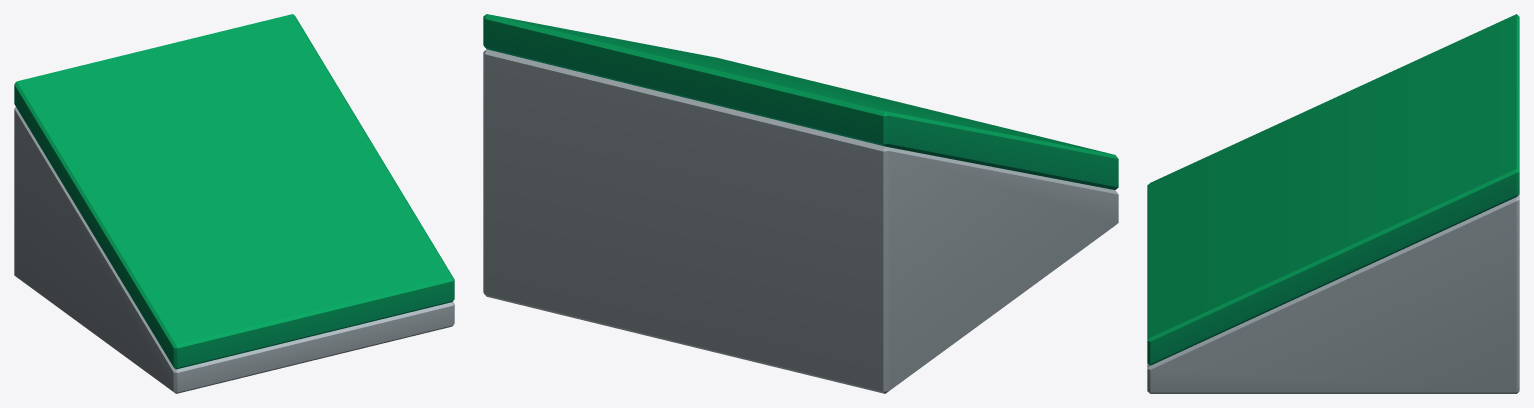
The model's file is platform_slope_6x6x4_green.glb.
3 views of the same model, side by side, from view 1: azimuth 30°, elevation 25°; view 2: azimuth 150°, elevation 25°; view 3: azimuth 270°, elevation 25° (orthographic). The views are drawn at different scales.
Visible parts, largest first — view 1: platform_slope_6x6x4_green; view 2: platform_slope_6x6x4_green; view 3: platform_slope_6x6x4_green.
Boxes of the visible parts, bbox=[...] form: platform_slope_6x6x4_green: bbox=[14, 14, 454, 393]; platform_slope_6x6x4_green: bbox=[483, 14, 1118, 393]; platform_slope_6x6x4_green: bbox=[1147, 14, 1519, 393].
Bounding box in the file's own units: 6 × 4 × 6.
Materials: 1 (1 with a texture image).
